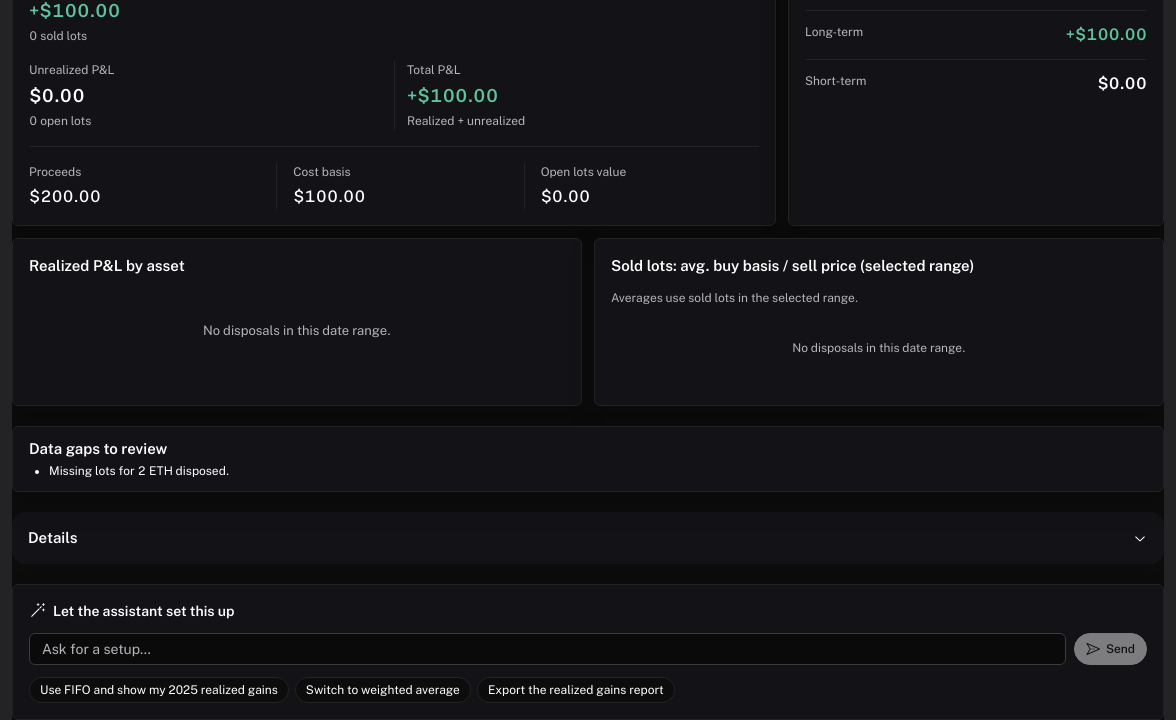
Test: shows an empty row for each phone cost basis section without records
(page scrolled)
Click the button "Details" at (53, 537), box left=12, top=512, right=1164, bottom=564
(page scrolled)
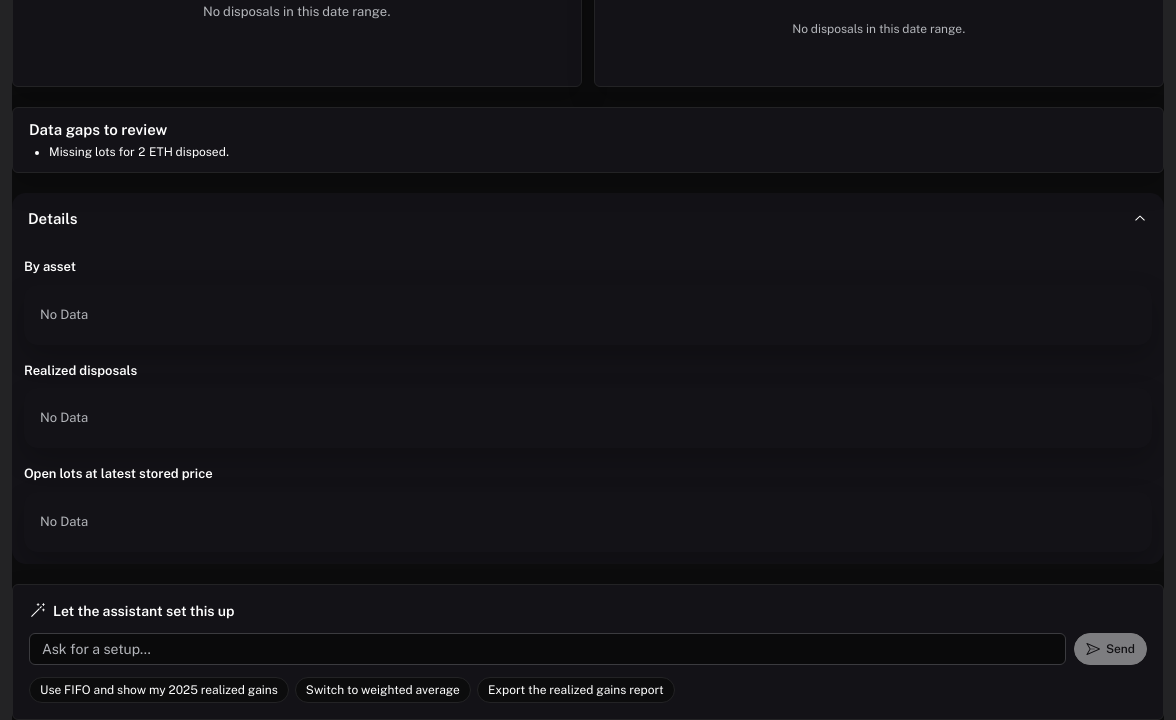
Expected: the number of elements with class "mobile-record-list" is 3, left=24, top=284, right=1152, bottom=344; left=24, top=388, right=1152, bottom=448; left=24, top=492, right=1152, bottom=552
Expected: the 1st element with class "mobile-record-list" reads "No Data", left=40, top=307, right=88, bottom=322
Expected: the element with class "mobile-record-list" below "Realized disposals" reads "No Data", left=40, top=410, right=88, bottom=425
